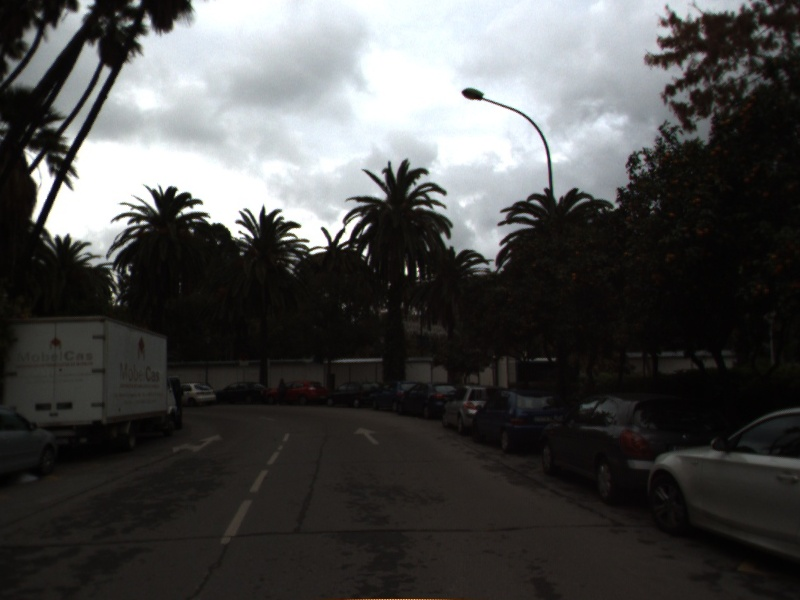STRAIGHT: (352, 425, 382, 446)
STRAIGHT_LEFT: (169, 432, 224, 456)
